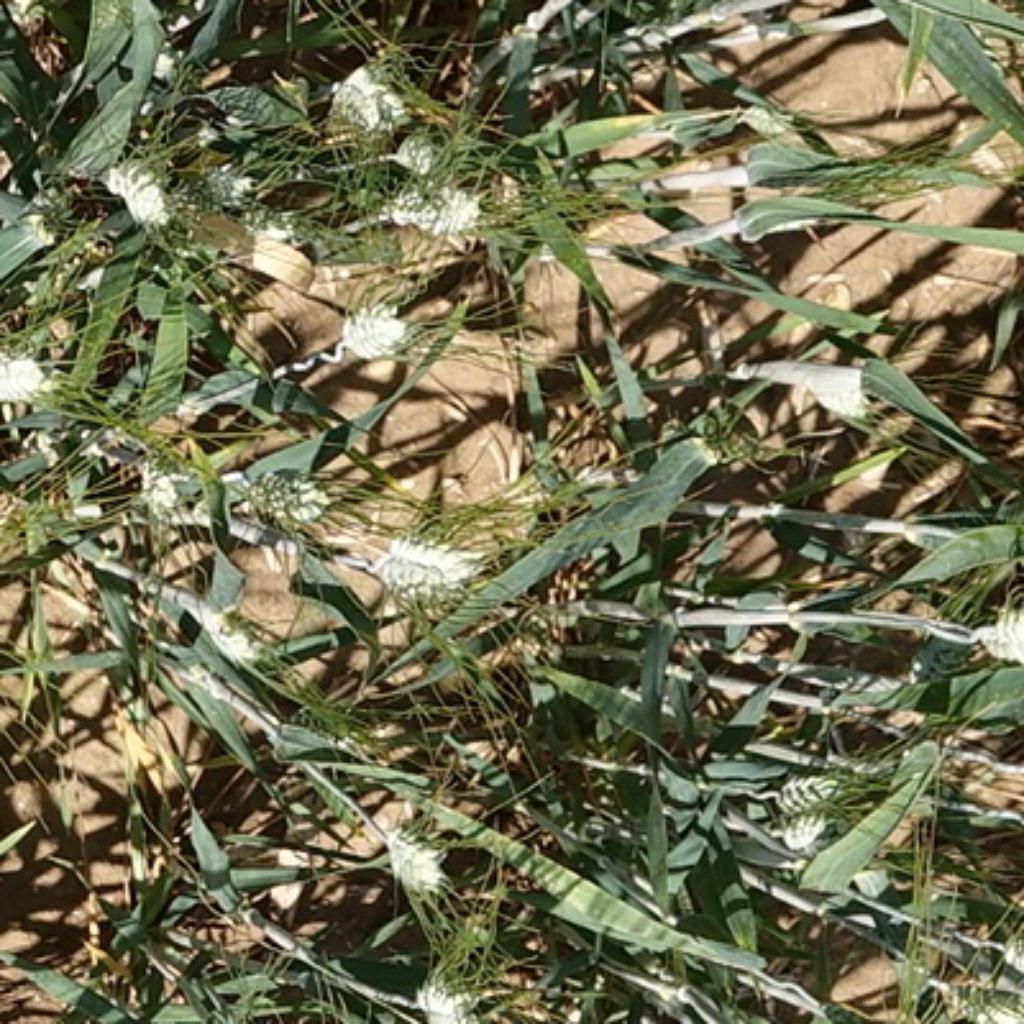0-0: (325, 62, 509, 609), (371, 535, 526, 610), (729, 167, 890, 237), (373, 174, 501, 249), (192, 599, 299, 688), (744, 747, 880, 816), (17, 212, 115, 307), (125, 427, 209, 527), (227, 455, 330, 529), (204, 66, 309, 138), (683, 394, 788, 465), (94, 140, 176, 225), (373, 811, 448, 893), (235, 184, 332, 245), (328, 305, 413, 369), (0, 317, 61, 404), (406, 974, 500, 1024), (938, 969, 1022, 1023), (171, 153, 250, 209), (770, 801, 847, 857), (965, 591, 1024, 663), (20, 171, 81, 230), (390, 124, 442, 176)
